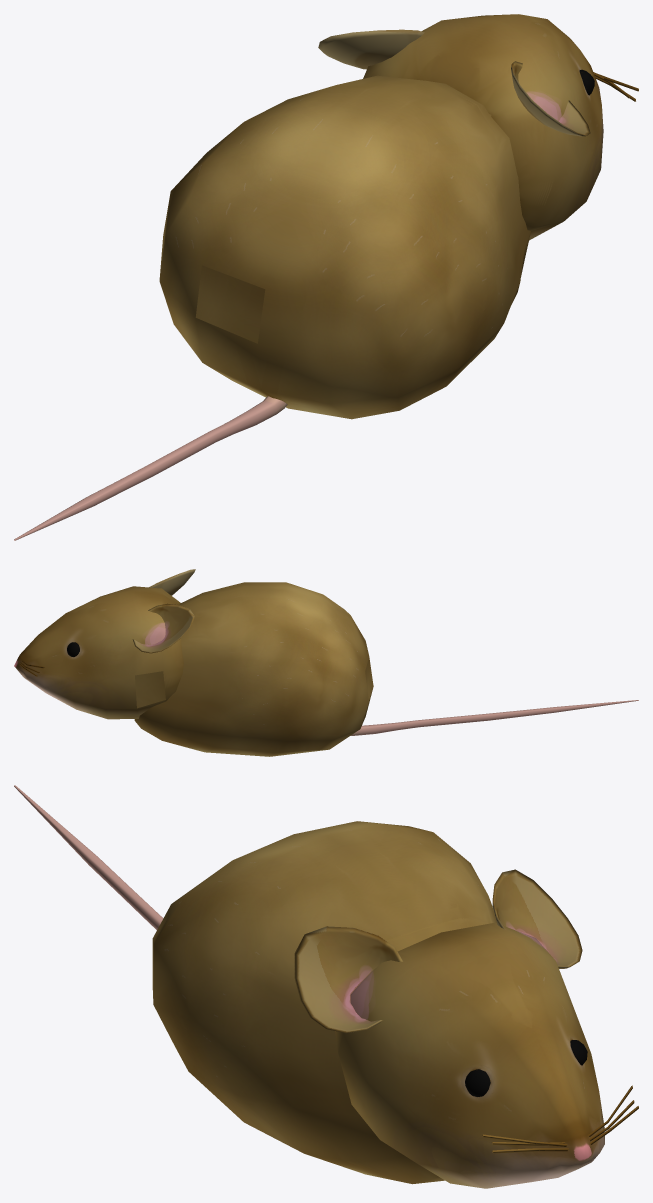
The model's file is body.obj.
3 renders of one model, top to bottom at view 1: azimuth 30°, elevation 25°; view 2: azimuth 150°, elevation 25°; view 3: azimuth 270°, elevation 25°, orthographic. The views are drawn at different scales.
Visible parts, largest first — view 1: cuerpo; view 2: cuerpo; view 3: cuerpo.
Part boxes in pixels (box(x1,y1,x2,y2)): cuerpo: box(14, 14, 638, 540); cuerpo: box(14, 569, 638, 756); cuerpo: box(14, 785, 638, 1188).
Bounding box in the file's own units: 0.6559 × 0.2068 × 0.401.
Materials: 2 (2 with a texture image).
